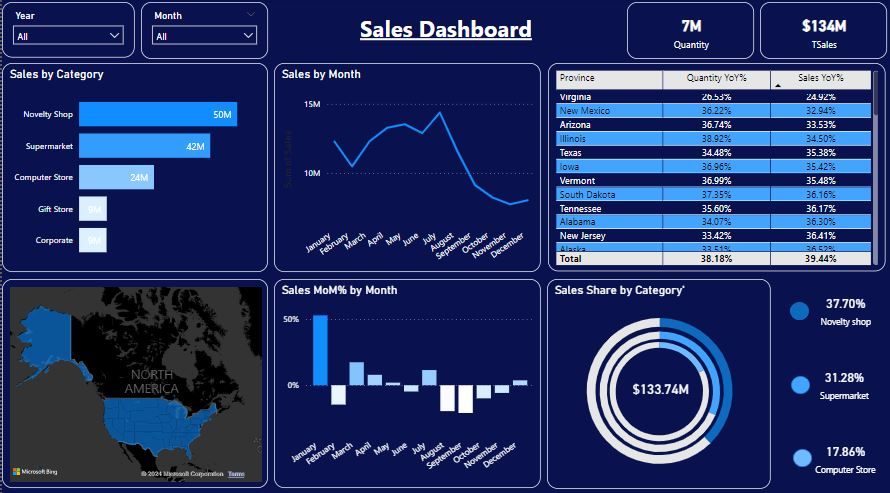

The dashboard page shown, as its layout file describes it:
{"tool":"powerbi","page":{"name":"Report","canvas":[1280,720],"ordinal":0},"visuals":[{"type":"donutChart","title":"Sales Share by Category''","fields":{"Y":["Invoice.Share","Customer.Share diff"]},"box":[784.8,403,322.4,301.5],"z":0,"group":"g1"},{"type":"textbox","box":[499.7,14.4,279.4,59],"z":0},{"type":"card","fields":{"Values":["Invoice.Share"]},"box":[1153,406.5,122.7,83.2],"z":1000,"group":"g1"},{"type":"card","fields":{"Values":["Invoice.FilteredSales"]},"box":[1090.9,4.5,183.3,81.8],"z":1000},{"type":"card","fields":{"Values":["Sum(Invoice.Quantity)"]},"box":[900,4.5,183.3,81.8],"z":2000},{"type":"donutChart","title":"Sales Share by Category''","fields":{"Y":["Invoice.Share","Customer.Share diff"]},"box":[823.3,451.5,247.3,227],"z":2000,"group":"g1"},{"type":"donutChart","title":"Sales Share by Category''","fields":{"Y":["Invoice.Share","Customer.Share diff"]},"box":[826.9,470.6,240,188.9],"z":3000,"group":"g1"},{"type":"clusteredBarChart","title":"Sales by Category","fields":{"Category":["Customer.CustomerCategoryName"],"Y":["Sum(Invoice.Sales)"]},"box":[0,92.2,383,301],"z":3000},{"type":"card","title":"Sales Share by Category''","fields":{"Values":["Invoice.Share"]},"box":[1153,515.6,119.1,76.2],"z":4000,"group":"g1"},{"type":"filledMap","fields":{"Category":["Customer.Province"]},"box":[0,403.2,383,301],"z":4000},{"type":"lineChart","title":"Sales by Month","fields":{"Category":["Invoice.Date.Variation.Date Hierarchy.Month"],"Y":["Sum(Invoice.Sales)"]},"box":[391.7,92.2,384.5,301],"z":5000},{"type":"card","title":"Sales Share by Category''","fields":{"Values":["Invoice.Share"]},"box":[1158.5,619.6,113.6,81.4],"z":5000,"group":"g1"},{"type":"slicer","fields":{"Values":["Invoice.Date.Variation.Date Hierarchy.Year"]},"box":[0,4.5,190.9,80.3],"z":6000},{"type":"shape","box":[1134.7,435.9,27.5,26],"z":6000,"group":"g1"},{"type":"shape","box":[1136.5,543.4,27.5,26],"z":7000,"group":"g1"},{"type":"clusteredColumnChart","fields":{"Y":["Invoice.Sales MoM%"],"Category":["Invoice.Date.Variation.Date Hierarchy.Month"]},"box":[391.7,403.2,384.5,301],"z":7000},{"type":"tableEx","fields":{"Values":["Customer.Province","Invoice.Quantity YoY%","Invoice.Sales YoY%"]},"box":[786.4,92.4,486.4,300],"z":8000},{"type":"shape","box":[1138.3,647.3,27.5,26],"z":8000,"group":"g1"},{"type":"card","fields":{"Values":["Invoice.Total Sales"]},"box":[896.5,534.7,102.6,55.5],"z":9000,"group":"g1"},{"type":"group","id":"g1","title":"Group 1","box":[784.8,403,490.9,301.5],"z":9000},{"type":"slicer","fields":{"Values":["Invoice.Date.Variation.Date Hierarchy.Month"]},"box":[200,4.5,183.3,81.8],"z":10000}]}

Visuals, with their boxes in screenshot pixels (x1, y1, x2, y2), scaled from the page's 1280x720 canvas onto the 890x493 screenshot:
"Sales Share by Category''" donutChart: box=[546, 276, 770, 482]
textbox: box=[347, 10, 542, 50]
card - Invoice.Share: box=[802, 278, 887, 335]
card - Invoice.FilteredSales: box=[759, 3, 886, 59]
card - Sum(Invoice.Quantity): box=[626, 3, 753, 59]
"Sales Share by Category''" donutChart: box=[572, 309, 744, 465]
"Sales Share by Category''" donutChart: box=[575, 322, 742, 452]
"Sales by Category" clusteredBarChart: box=[0, 63, 266, 269]
"Sales Share by Category''" card: box=[802, 353, 885, 405]
filledMap - Customer.Province: box=[0, 276, 266, 482]
"Sales by Month" lineChart: box=[272, 63, 540, 269]
"Sales Share by Category''" card: box=[806, 424, 885, 480]
slicer - Invoice.Date.Variation.Date Hierarchy.Year: box=[0, 3, 133, 58]
shape: box=[789, 298, 808, 316]
shape: box=[790, 372, 809, 390]
clusteredColumnChart - Invoice.Sales MoM% x Invoice.Date.Variation.Date Hierarchy.Month: box=[272, 276, 540, 482]
tableEx - Customer.Province x Invoice.Quantity YoY%: box=[547, 63, 885, 269]
shape: box=[791, 443, 811, 461]
card - Invoice.Total Sales: box=[623, 366, 695, 404]
"Group 1" group: box=[546, 276, 887, 482]
slicer - Invoice.Date.Variation.Date Hierarchy.Month: box=[139, 3, 267, 59]
